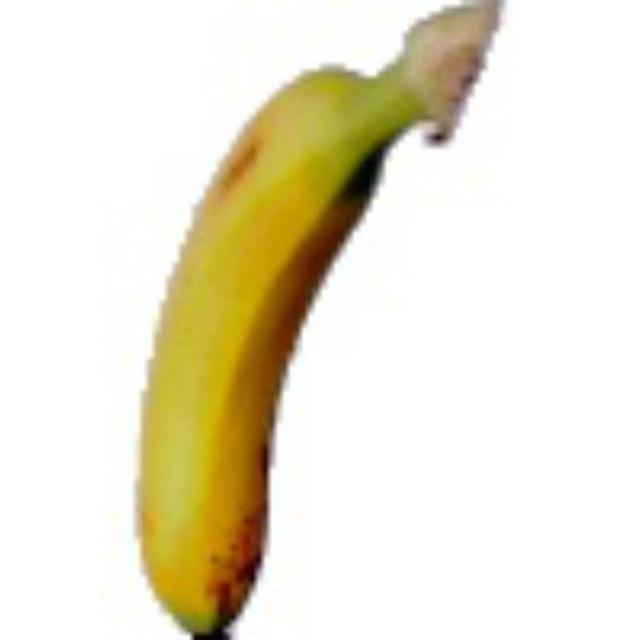banana: (64, 0, 556, 634)
